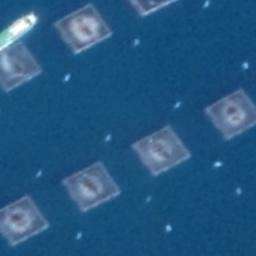square_cover: (56, 155, 127, 217), (129, 121, 197, 183), (50, 1, 115, 56), (1, 188, 56, 250), (201, 84, 256, 143), (1, 33, 45, 96), (130, 1, 187, 25)
